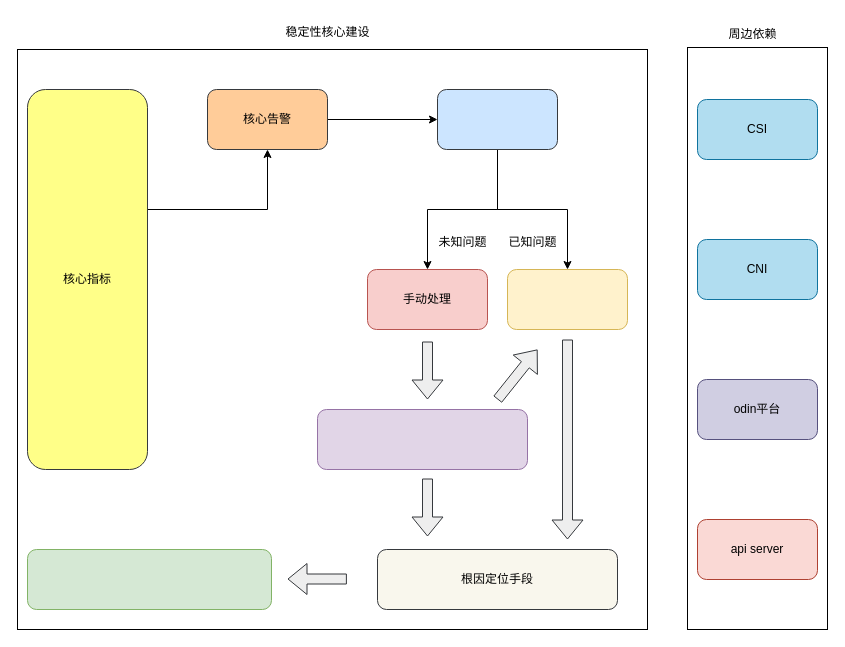
Image size: 845x647. Some labels were removed from this diagram. The shapes that lost their labels are listed below. From the top down, each one's box as (x1, y1, x2, y2) in pixels, then its label:
(436, 88, 558, 150): 自愈
(506, 268, 628, 330): 自动处理
(316, 408, 528, 470): SOP兜底能力
(26, 548, 272, 610): 单机组件版本迭代
